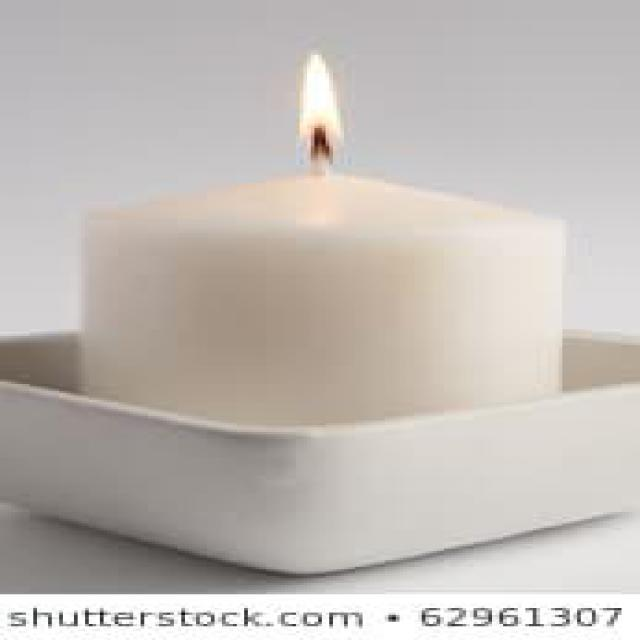Fire: (298, 52, 346, 164)
